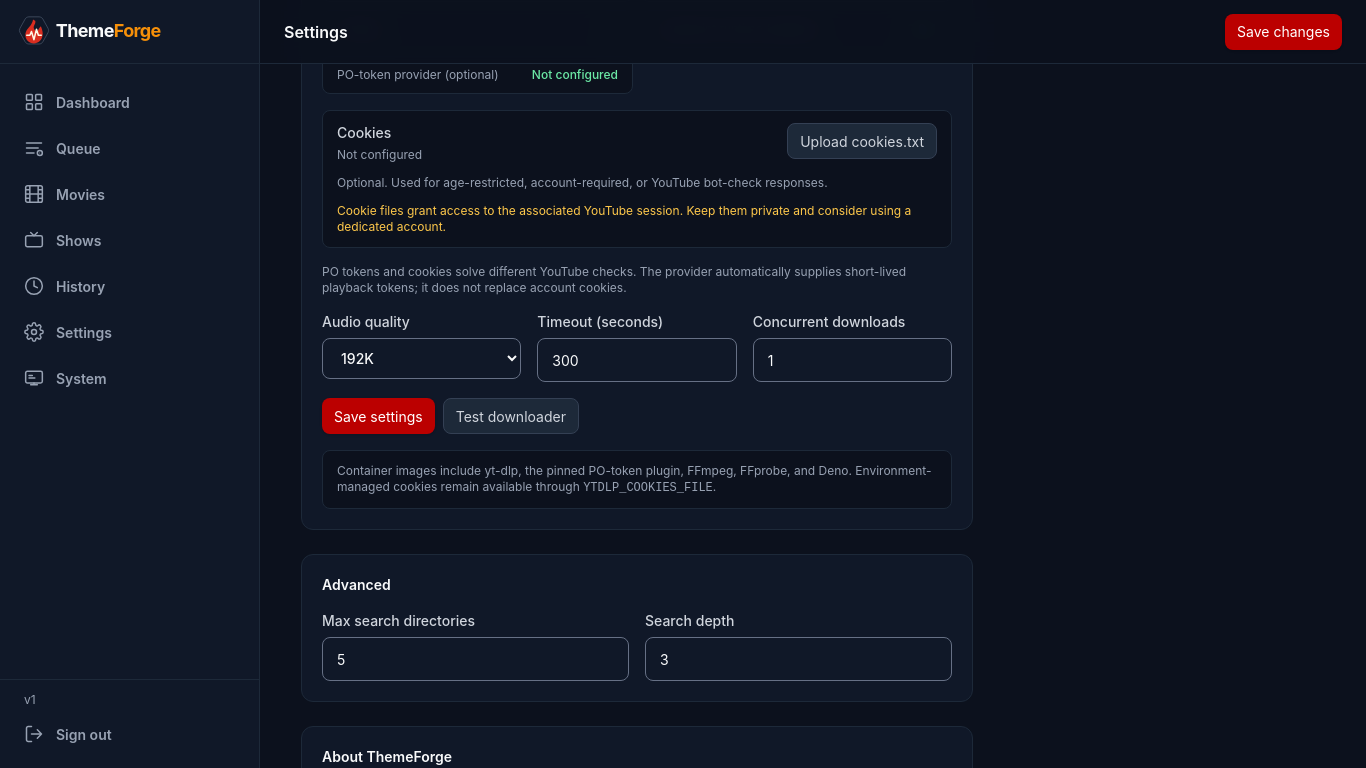
Scenario: an action in flight says so and cannot be fired twice › Test downloader only sends one request while a test is in flight
(page scrolled)
Click the button "Test downloader": (511, 416) [443, 398, 579, 434]
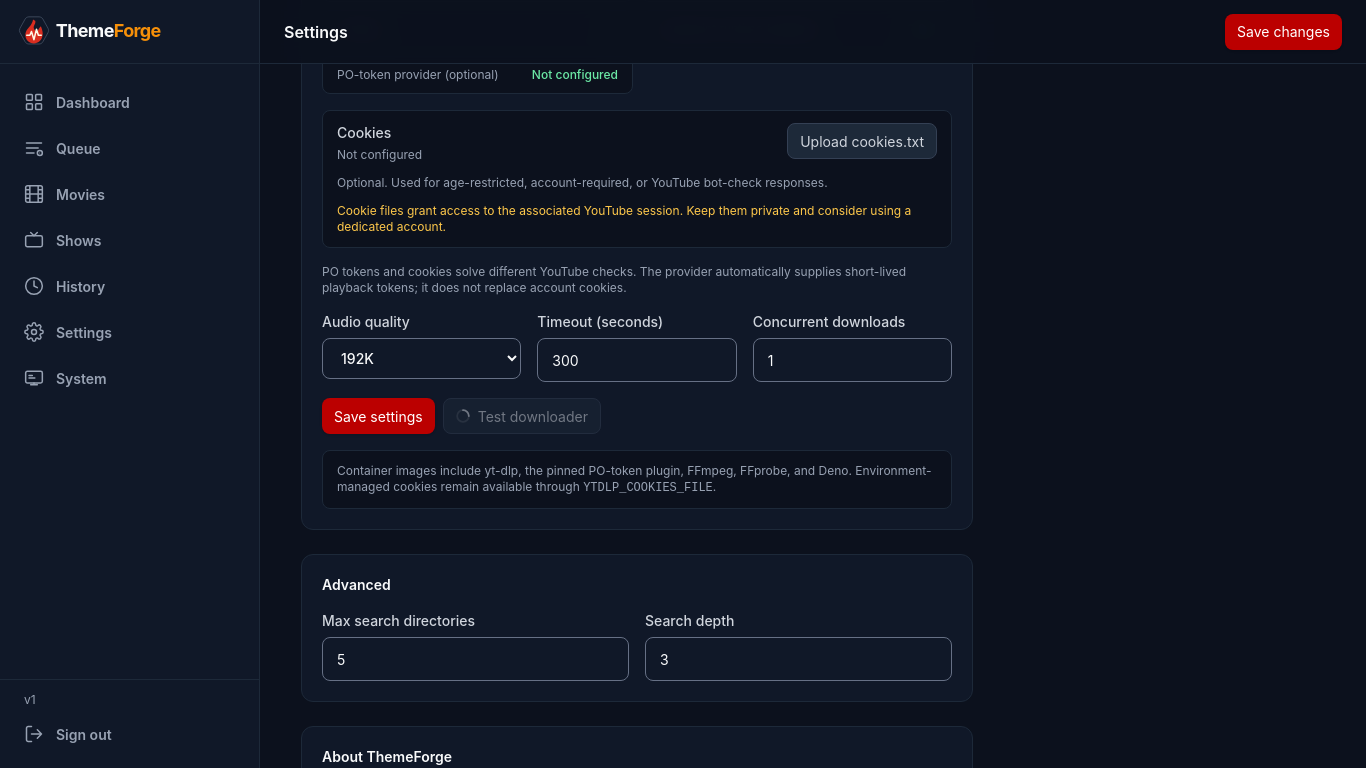
Check: the button "Test downloader" is disabled
Click the button "Test downloader": (522, 416) [443, 398, 601, 434]
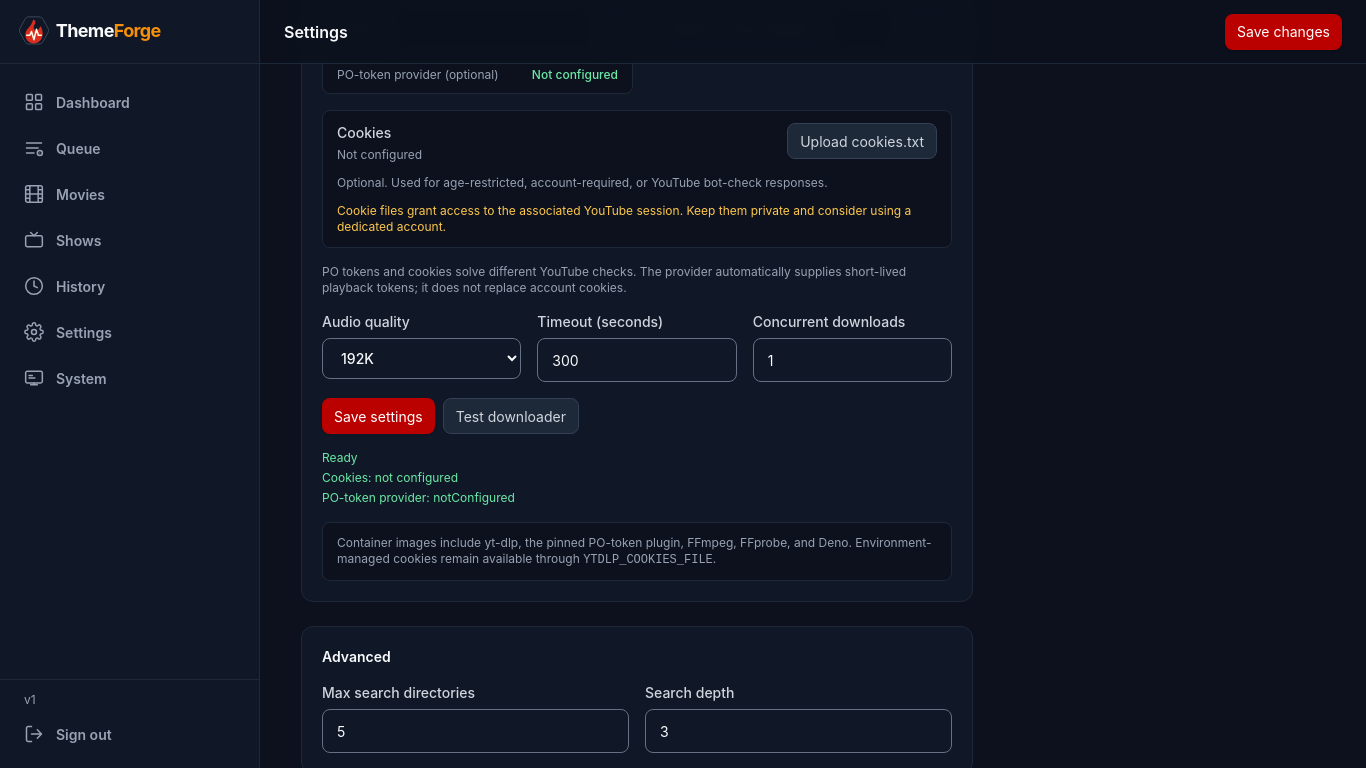
Check: the button "Test downloader" is enabled, box [443, 398, 579, 434]
